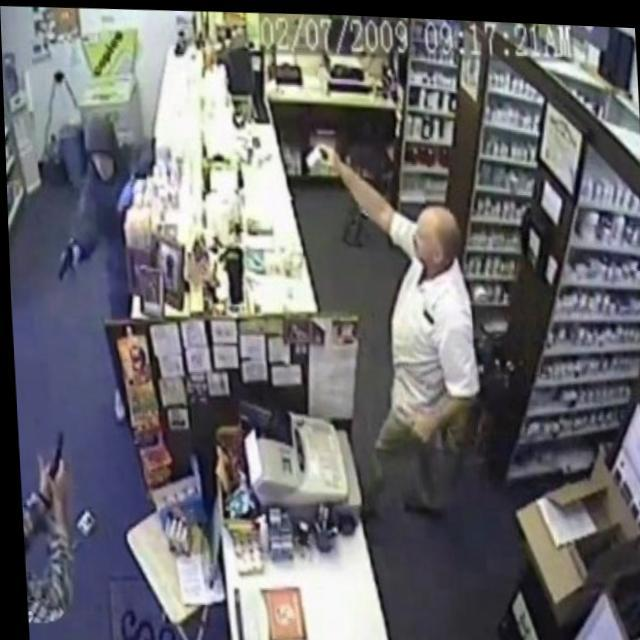weapon: (312, 135, 330, 182)
